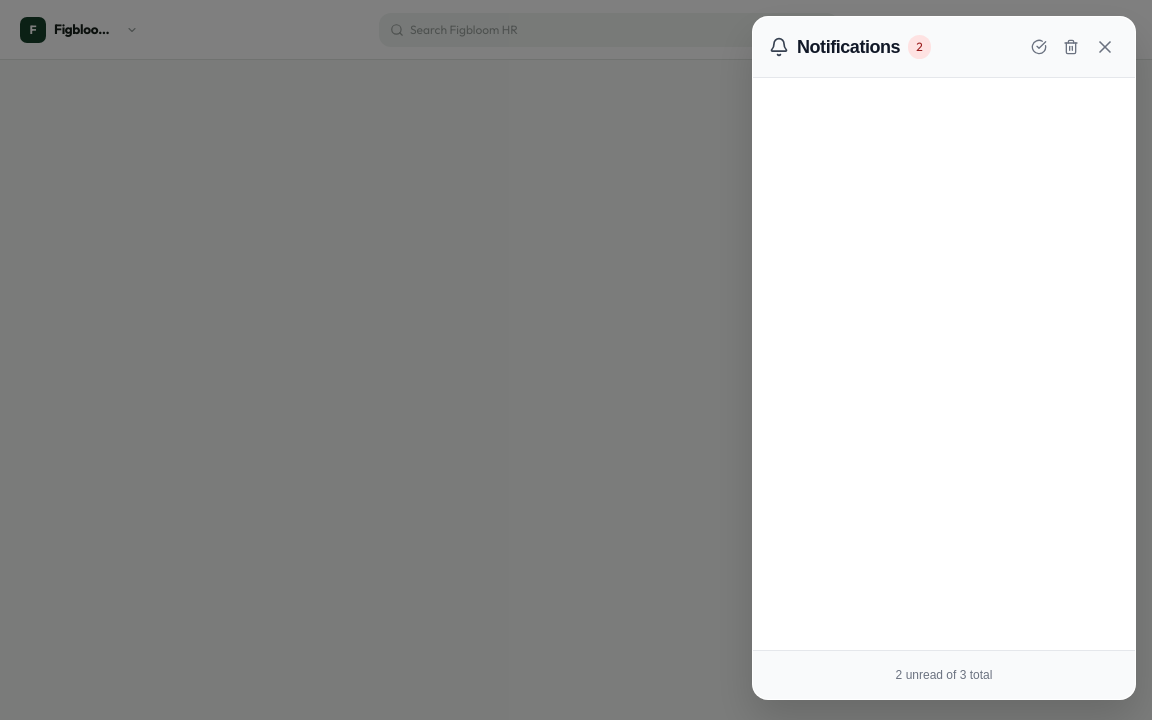
Test: Header notifications: read and cleared are the person’s own › clears all, saved for the person
Earlier steps of the test are not shown.
Click the button named "Clear all notifications" at (1071, 47), box [1059, 35, 1083, 59]
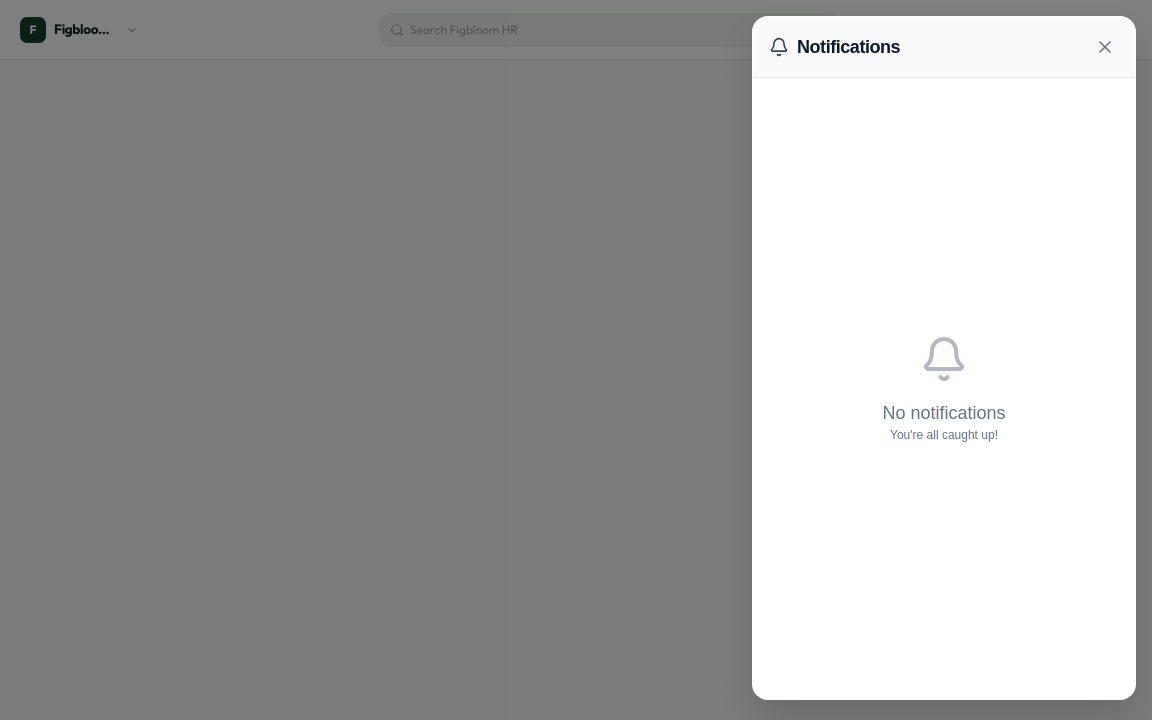
Check: the text "No notifications" is shown, box [882, 398, 1006, 426]
